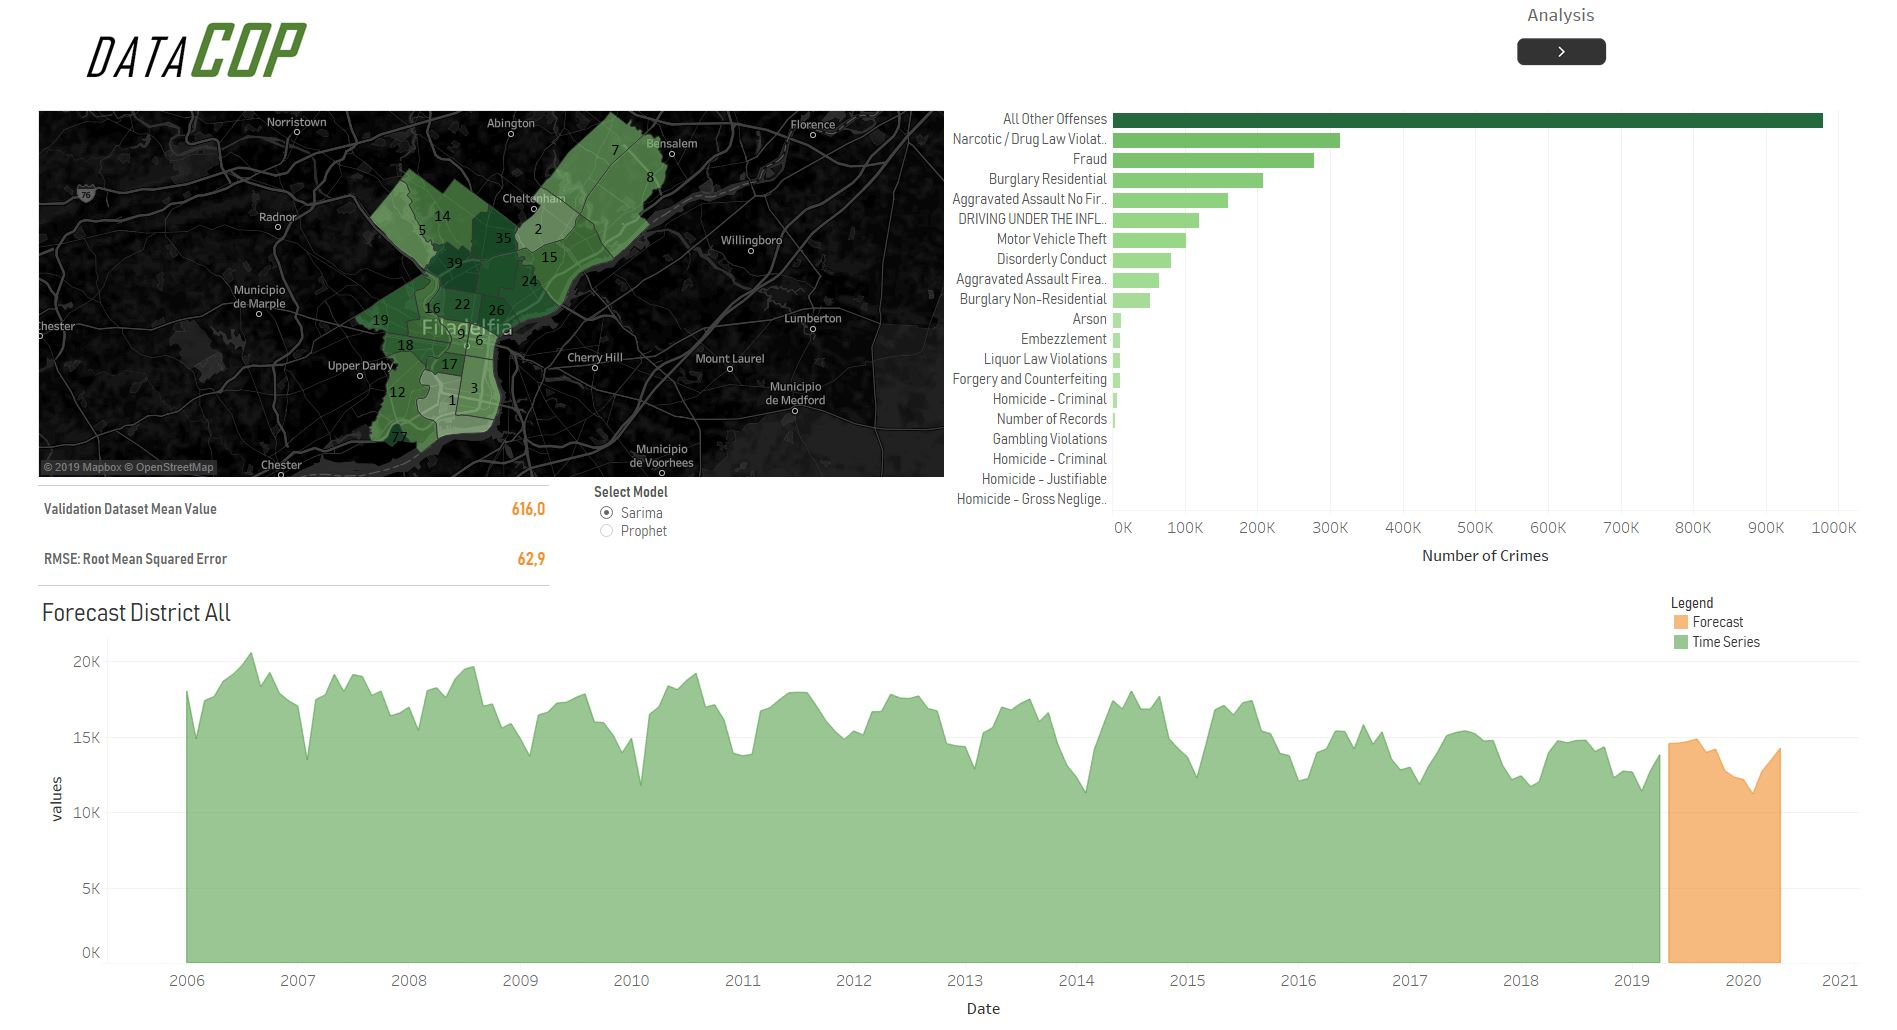

Layout of this report page (visuals, bound fields, positions):
{"tool":"tableau","page":{"name":"Dashboard 1","canvas":[1000,1000],"units":"permille","ordinal":0},"visuals":[{"type":"blank","box":[4.8,8.6,19,982.8]},{"type":"blank","box":[23.8,8.6,21.6,104.2]},{"type":"image","param":"C:/Users/Eduardo/Desktop/KSCHOOL/DataCopGreen.png","box":[45.5,8.6,127.6,104.2]},{"type":"blank","box":[173.1,8.6,589.5,104.2]},{"type":"text","box":[762.6,8.6,111,35.3]},{"type":"blank","box":[873.6,8.6,102,104.2]},{"type":"blank","box":[975.6,8.6,19.5,982.8]},{"type":"dashboard-object","box":[762.6,43.9,111,34.7]},{"type":"blank","box":[762.6,78.6,111,34.2]},{"type":"worksheet","title":"Map","mark":"Automatic","box":[23.8,112.8,475.7,357.2]},{"type":"worksheet","title":"Type of Crime","mark":"Automatic","box":[499.5,112.8,476.1,462.9]},{"type":"worksheet","title":"RMSE","mark":"Automatic","box":[23.8,469.9,270.3,105.8]},{"type":"blank","box":[294.1,469.9,19.4,105.8]},{"type":"parameter","param":"[Parameters].[Parameter 1]","box":[313.5,469.9,186,105.8]},{"type":"worksheet","title":"Forecast","mark":"Area","rows":["values"],"cols":["F1"],"box":[23.8,575.7,951.8,415.7]}]}

Visuals, with their boxes on the dashboard's canvas, which has no fixed pixel size, in thousandths of its width and height (x1, y1, x2, y2). These are canvas units, not pixel positions in the 1897x1030 screenshot, which may show the page scaled, cropped or inside an application window:
blank: <region>5, 9, 24, 991</region>
blank: <region>24, 9, 45, 113</region>
image: <region>46, 9, 173, 113</region>
blank: <region>173, 9, 763, 113</region>
text: <region>763, 9, 874, 44</region>
blank: <region>874, 9, 976, 113</region>
blank: <region>976, 9, 995, 991</region>
dashboard-object: <region>763, 44, 874, 79</region>
blank: <region>763, 79, 874, 113</region>
"Map" worksheet: <region>24, 113, 500, 470</region>
"Type of Crime" worksheet: <region>500, 113, 976, 576</region>
"RMSE" worksheet: <region>24, 470, 294, 576</region>
blank: <region>294, 470, 314, 576</region>
parameter: <region>314, 470, 500, 576</region>
"Forecast" worksheet (Area marks): <region>24, 576, 976, 991</region>
